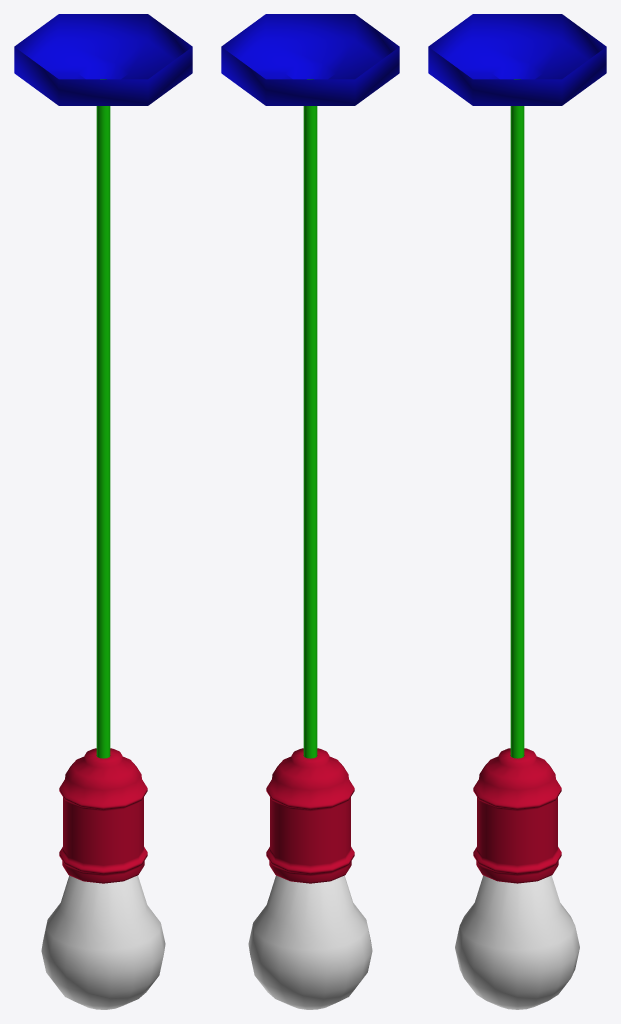
File: Bare Bulb Light.fbx
The picture shows the model from 3 angles, left to right: view 1: azimuth 30°, elevation 25°; view 2: azimuth 150°, elevation 25°; view 3: azimuth 270°, elevation 25°; orthographic projection.
Visible parts, largest first — view 1: Bare Bulb Fixture, Bare Bulb; view 2: Bare Bulb Fixture, Bare Bulb; view 3: Bare Bulb Fixture, Bare Bulb.
Part boxes in pixels (bbox=[...]): Bare Bulb Fixture: bbox=[14, 14, 192, 883]; Bare Bulb: bbox=[41, 875, 165, 1009]; Bare Bulb Fixture: bbox=[221, 14, 399, 883]; Bare Bulb: bbox=[248, 875, 372, 1009]; Bare Bulb Fixture: bbox=[428, 14, 606, 883]; Bare Bulb: bbox=[455, 875, 579, 1009].
Bounding box in the file's own units: 10.88 × 74.37 × 12.56.
